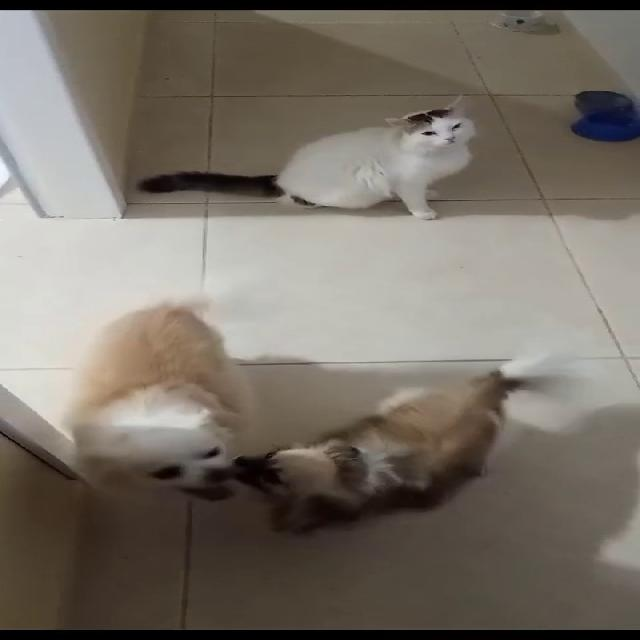Pedrita: (226, 351, 580, 531)
Simba: (230, 72, 537, 240)
Theo: (39, 289, 257, 494)
